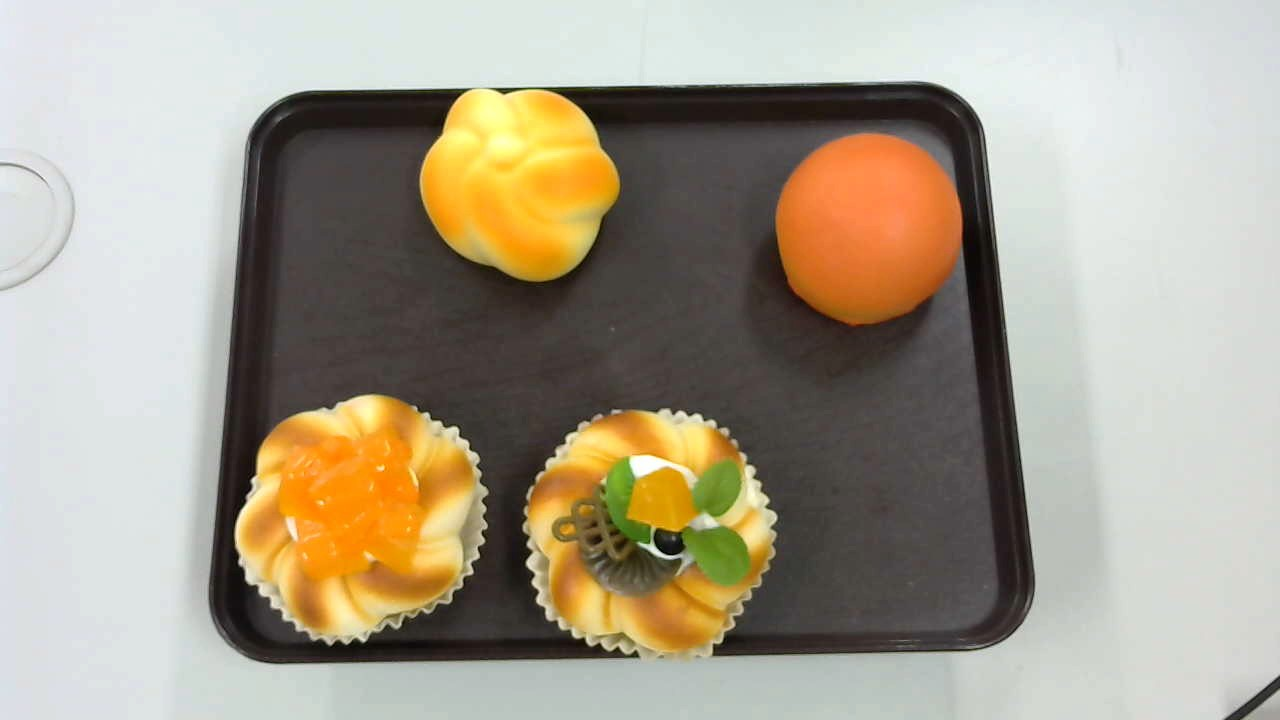bun: (775, 132, 964, 326)
fruit tart: (523, 408, 776, 657)
mango tart: (234, 393, 485, 641)
twist bread: (417, 88, 623, 283)
